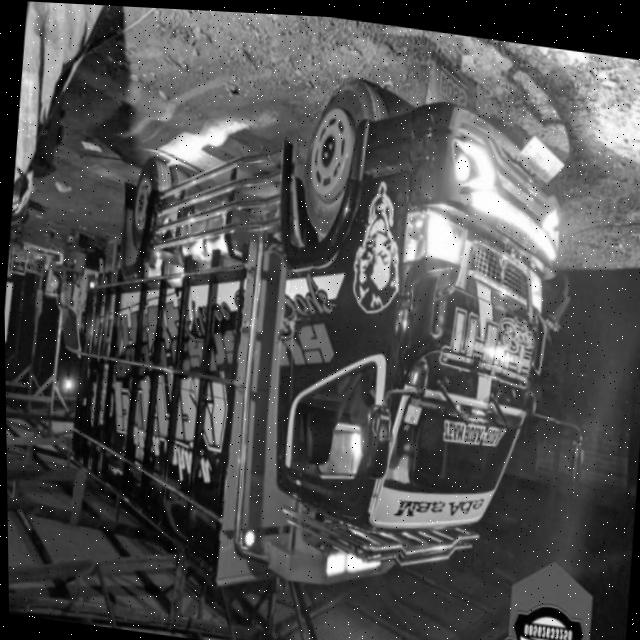truck: (210, 61, 613, 632)
